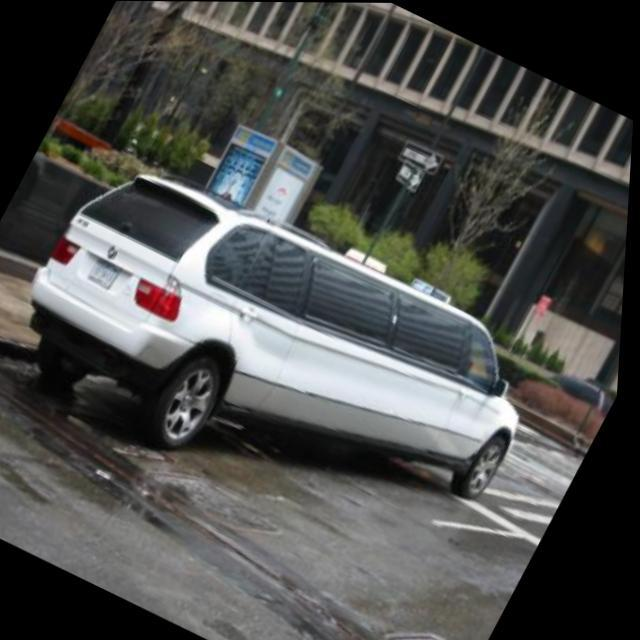license_plate: (89, 256, 126, 290)
